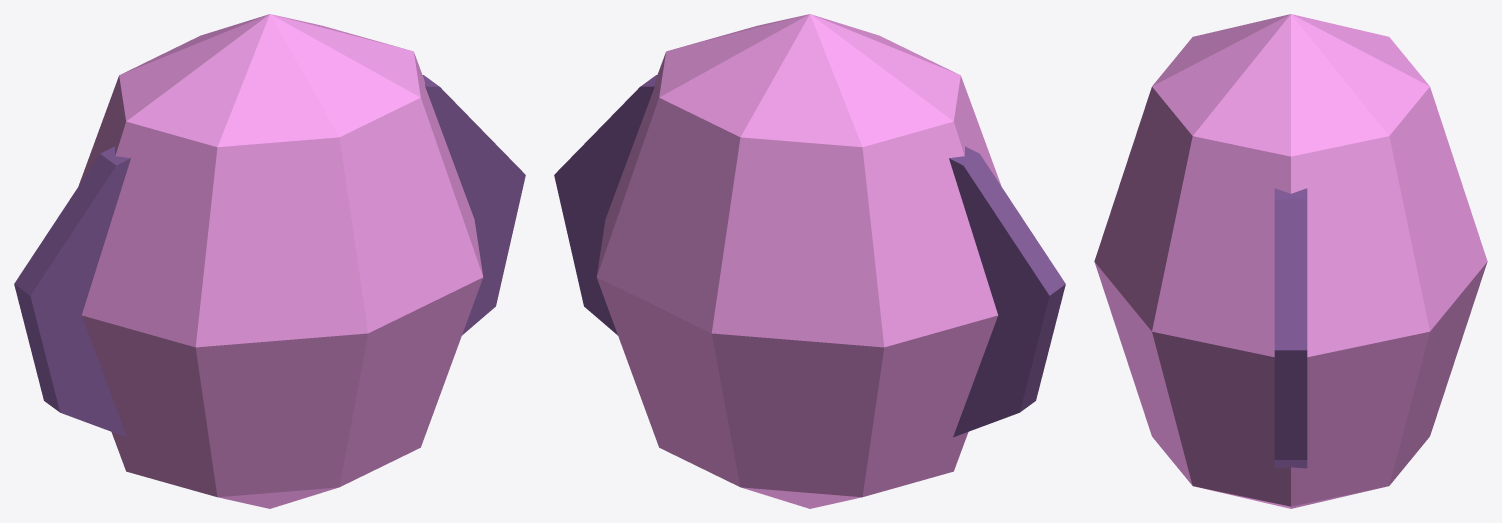
Rendered from hostile_core_01.glb.
3 renders of one model, left to right at view 1: azimuth 30°, elevation 25°; view 2: azimuth 150°, elevation 25°; view 3: azimuth 270°, elevation 25°, orthographic.
Parts seen in each view (by area): view 1: hostile_core_01; view 2: hostile_core_01; view 3: hostile_core_01.
Boxes of the visible parts, box(x1,y1,x2,y2) form: hostile_core_01: box(14, 14, 525, 508); hostile_core_01: box(554, 14, 1065, 508); hostile_core_01: box(1094, 14, 1487, 508).
Size of the model in its own units: 0.4924 by 0.47 by 0.3384.
